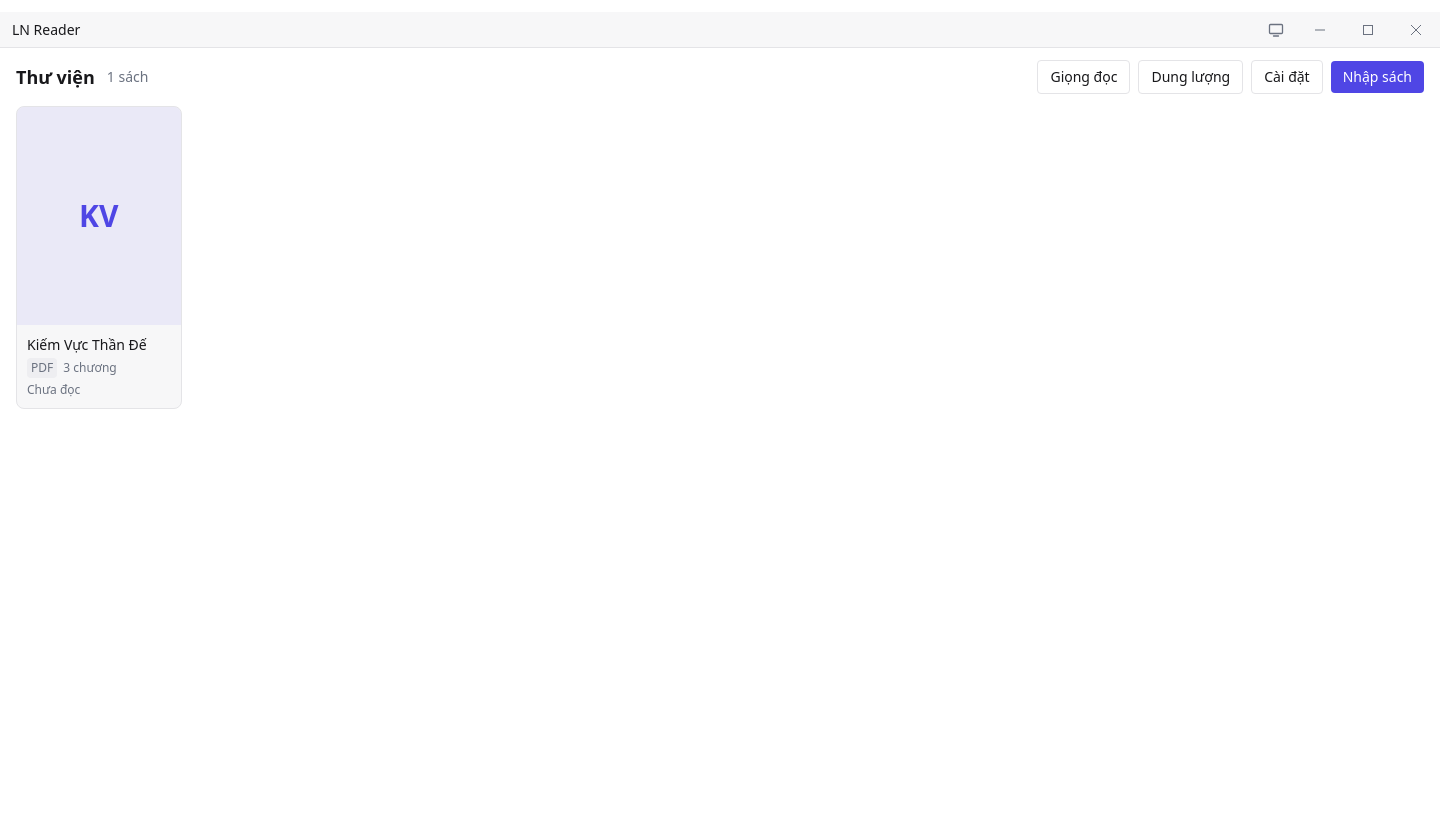
Test case: App › quay lại được từ màn chi tiết về thư viện
Expected: the text "Kiếm Vực Thần Đế" is shown, [27,335,147,354]
Click the button with aria-label "Mở Kiếm Vực Thần Đế".
click(99, 258)  # box [17,107,180,408]
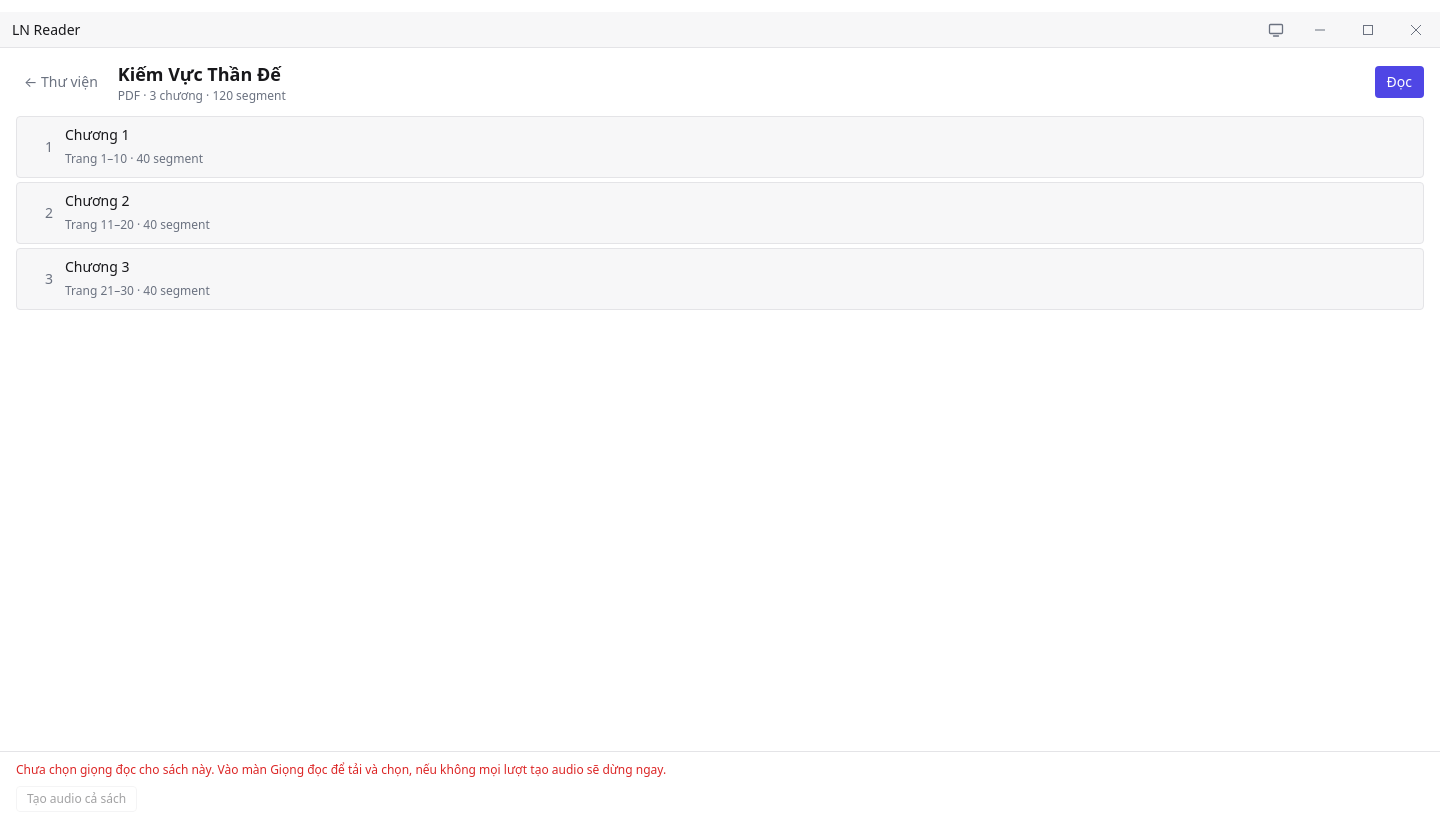
Expected: the list item with test id "chapter-item" that starts with "Chương 1" is shown, [16,116,1424,178]
Click the button "← Thư viện".
click(61, 82)  # box [16,68,106,96]
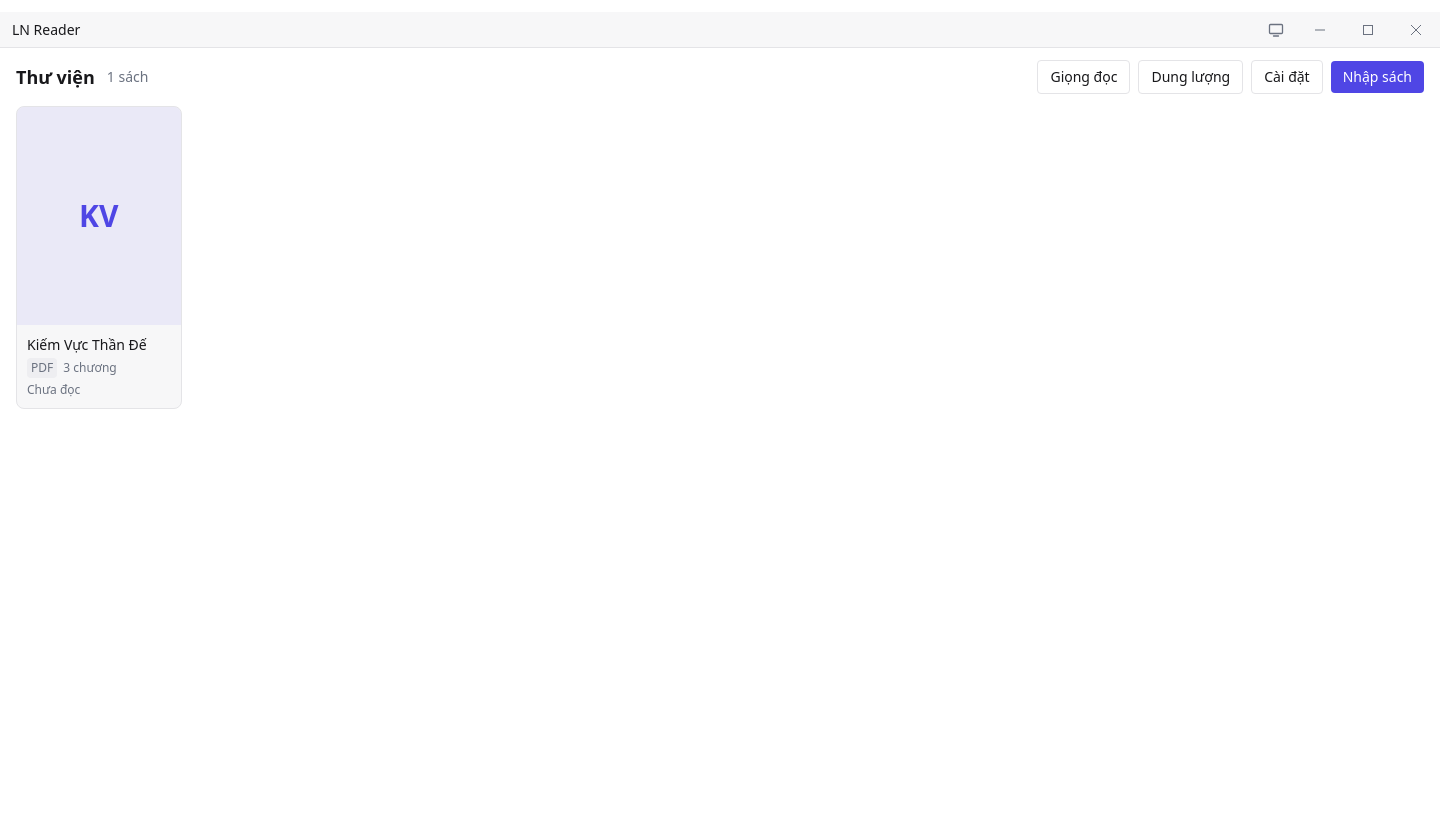
Expected: the number of list items with test id "book-card" is 1, [16,106,182,409]
